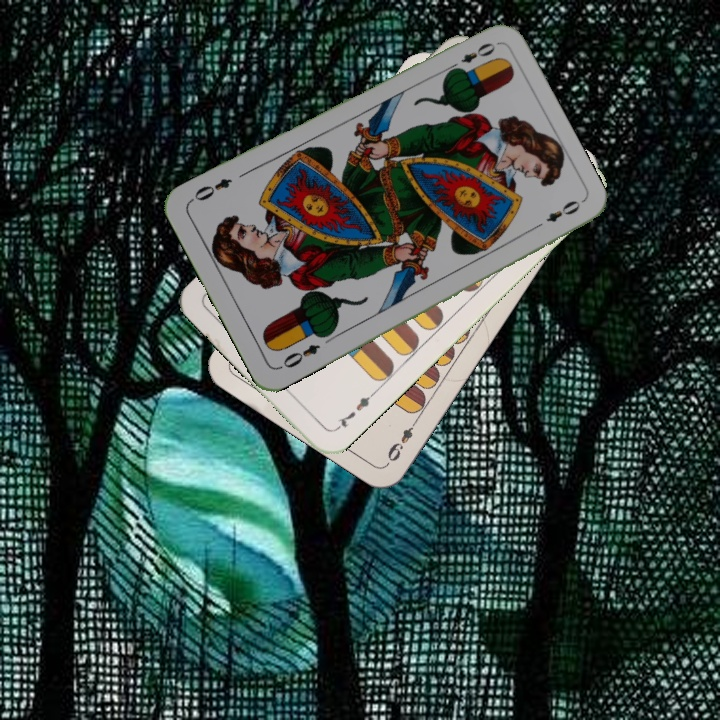E7: (330, 388, 377, 434)
E9: (383, 414, 421, 467)
EO: (444, 38, 498, 74), (275, 340, 323, 372)
